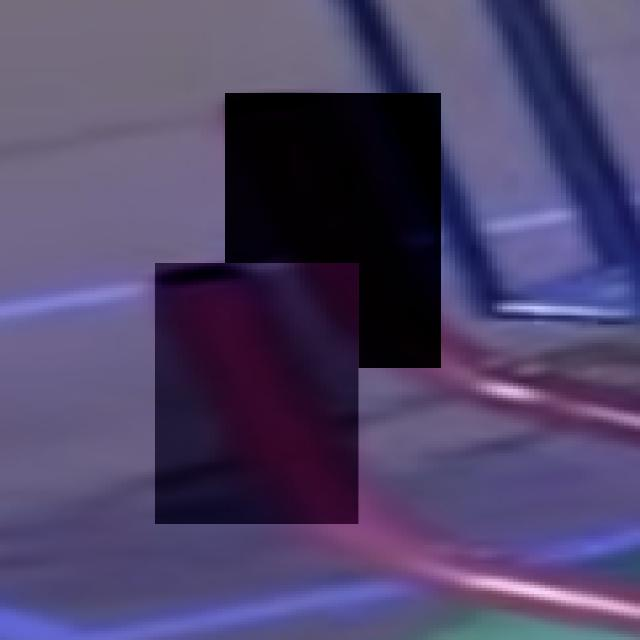Reef: (225, 93, 441, 368), (156, 263, 360, 524)
